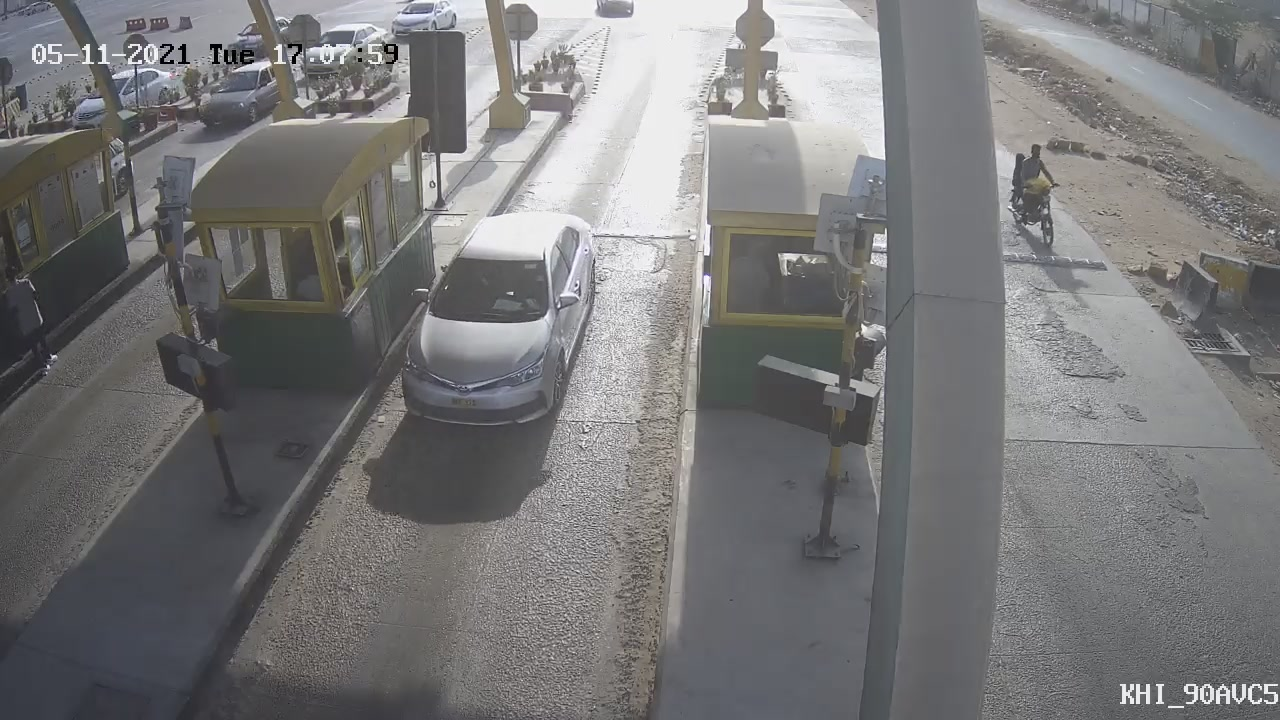F1: (377, 192, 622, 442)
